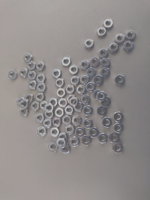nut: (112, 143, 124, 154), (101, 117, 113, 128), (97, 106, 108, 117), (94, 75, 105, 86), (113, 112, 124, 122), (114, 123, 124, 134), (109, 133, 120, 143), (88, 128, 99, 138), (75, 127, 85, 138), (101, 97, 112, 107), (70, 137, 80, 148), (65, 125, 75, 136), (61, 144, 72, 154), (57, 138, 67, 149), (72, 116, 83, 126), (115, 75, 126, 85), (97, 91, 107, 102), (100, 67, 111, 77), (80, 74, 90, 85), (100, 58, 111, 68), (98, 48, 109, 58), (104, 19, 114, 30), (63, 115, 73, 126), (82, 136, 92, 146), (83, 119, 93, 129), (83, 106, 93, 116), (81, 95, 91, 105), (86, 82, 96, 92), (127, 30, 137, 40), (109, 43, 119, 53), (85, 39, 95, 49), (97, 27, 107, 37), (62, 57, 72, 67), (52, 69, 62, 79), (23, 53, 33, 63), (58, 98, 68, 108), (74, 102, 84, 112), (8, 70, 18, 80), (55, 78, 65, 88), (38, 127, 48, 137), (50, 128, 60, 138), (52, 117, 62, 127), (35, 113, 45, 123), (35, 92, 45, 102), (99, 133, 108, 144), (125, 40, 134, 51), (49, 98, 58, 109), (31, 101, 40, 112), (49, 142, 58, 152), (93, 90, 102, 100), (57, 88, 66, 98), (116, 34, 125, 44), (91, 57, 100, 67), (81, 60, 90, 70), (70, 65, 79, 75), (71, 76, 80, 86), (77, 85, 86, 95), (66, 85, 75, 95), (70, 97, 79, 107), (37, 83, 47, 92), (55, 108, 64, 118), (65, 106, 74, 116), (45, 104, 54, 114), (43, 119, 52, 129), (20, 107, 29, 117), (36, 62, 45, 71), (37, 74, 46, 83), (28, 71, 37, 80), (27, 61, 36, 70), (19, 69, 28, 78), (28, 81, 37, 90), (20, 100, 29, 109), (17, 97, 26, 106), (40, 101, 48, 111), (25, 94, 33, 104), (67, 95, 76, 103), (58, 133, 68, 140), (45, 111, 54, 118)
